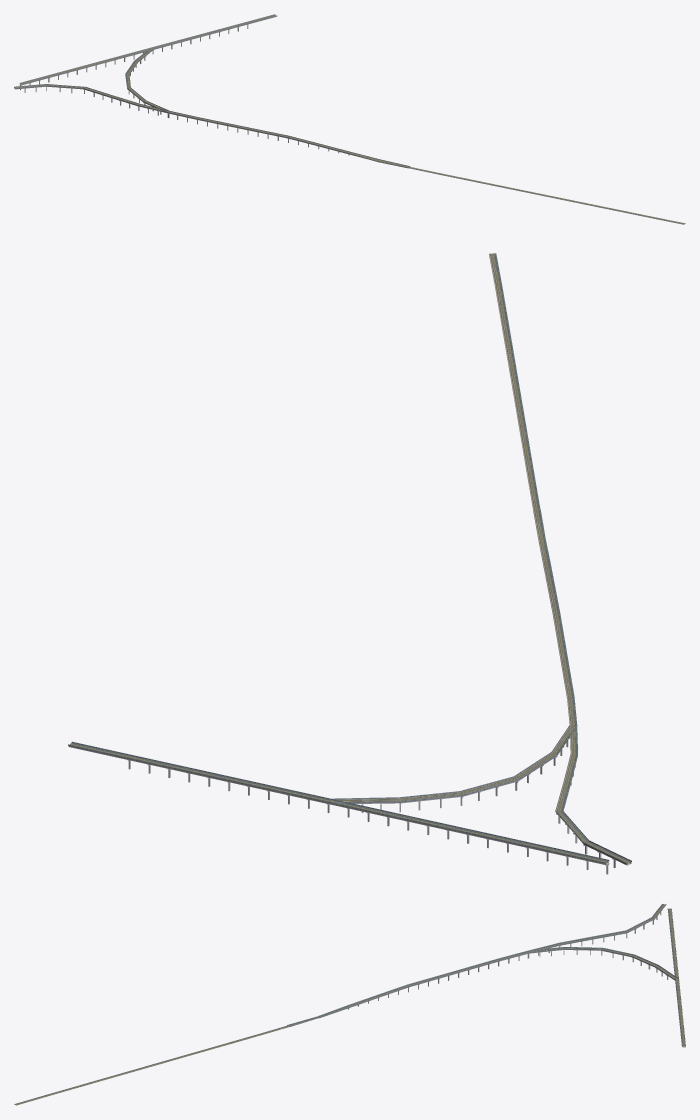
The picture shows the model from 3 angles, top to bottom: view 1: azimuth 30°, elevation 25°; view 2: azimuth 150°, elevation 25°; view 3: azimuth 270°, elevation 25°; orthographic projection. The views are drawn at different scales.
Parts seen in each view (by area): view 1: HN1267___Truc_duong_sat; view 2: HN1267___Truc_duong_sat; view 3: HN1267___Truc_duong_sat.
Boxes of the visible parts, x1,y1,x2,y2 form: HN1267___Truc_duong_sat: (14,14,685,224); HN1267___Truc_duong_sat: (68,253,631,874); HN1267___Truc_duong_sat: (14,904,685,1105).
Size of the model in its own units: 919 by 15.17 by 1336.
Materials: 1 (1 with a texture image).
